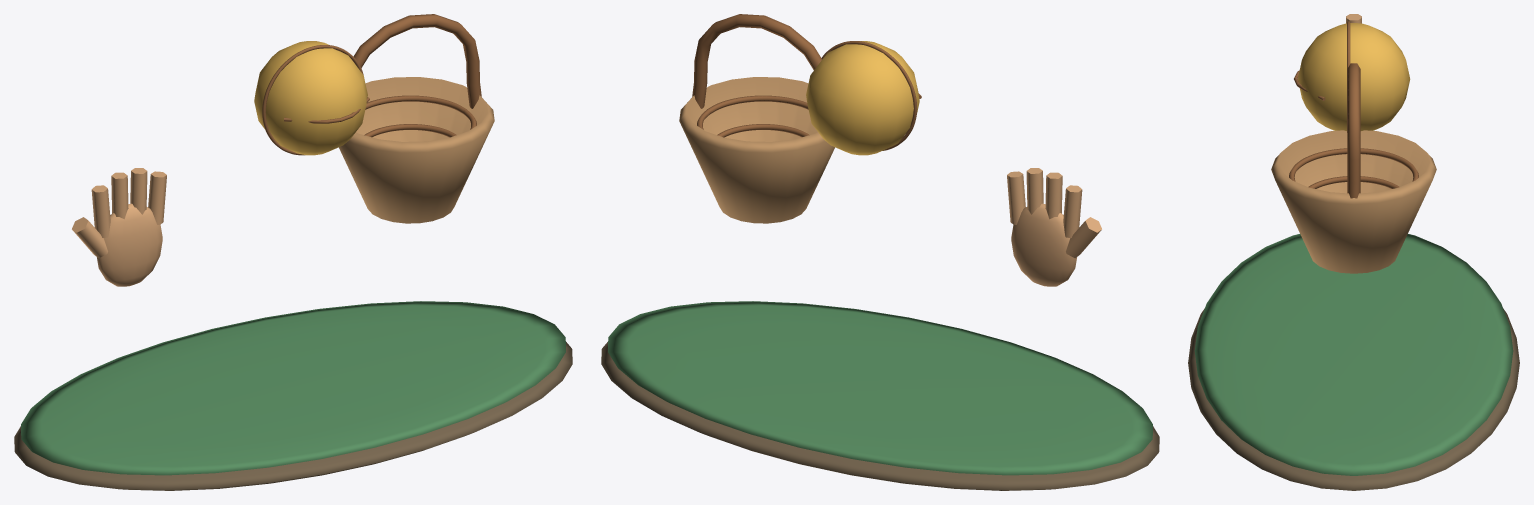
The model's file is basketball.glb.
The picture shows the model from 3 angles, left to right: view 1: azimuth 30°, elevation 25°; view 2: azimuth 150°, elevation 25°; view 3: azimuth 270°, elevation 25°; orthographic projection.
Parts seen in each view (by area): view 1: basketball_surface_01, basketball_surface_03, basketball_surface_00, basketball_surface_05, basketball_surface_02, basketball_surface_04; view 2: basketball_surface_01, basketball_surface_03, basketball_surface_05, basketball_surface_00, basketball_surface_02, basketball_surface_04; view 3: basketball_surface_01, basketball_surface_03, basketball_surface_05, basketball_surface_00, basketball_surface_04.
Boxes of the visible parts, x1=… form: basketball_surface_01: x1=21, y1=301, x2=565, y2=475; basketball_surface_03: x1=339, y1=77, x2=494, y2=223; basketball_surface_00: x1=14, y1=342, x2=572, y2=490; basketball_surface_05: x1=254, y1=41, x2=367, y2=155; basketball_surface_02: x1=72, y1=168, x2=166, y2=286; basketball_surface_04: x1=262, y1=14, x2=481, y2=155; basketball_surface_01: x1=608, y1=301, x2=1152, y2=475; basketball_surface_03: x1=679, y1=77, x2=834, y2=223; basketball_surface_05: x1=806, y1=41, x2=919, y2=155; basketball_surface_00: x1=601, y1=342, x2=1159, y2=490; basketball_surface_02: x1=1007, y1=168, x2=1101, y2=286; basketball_surface_04: x1=692, y1=14, x2=921, y2=150; basketball_surface_01: x1=1194, y1=234, x2=1513, y2=475; basketball_surface_03: x1=1271, y1=130, x2=1436, y2=273; basketball_surface_05: x1=1297, y1=23, x2=1410, y2=130; basketball_surface_00: x1=1188, y1=308, x2=1519, y2=490; basketball_surface_04: x1=1289, y1=21, x2=1418, y2=198.
Bounding box in the file's own units: 4.56 × 3.03 × 2.5.
